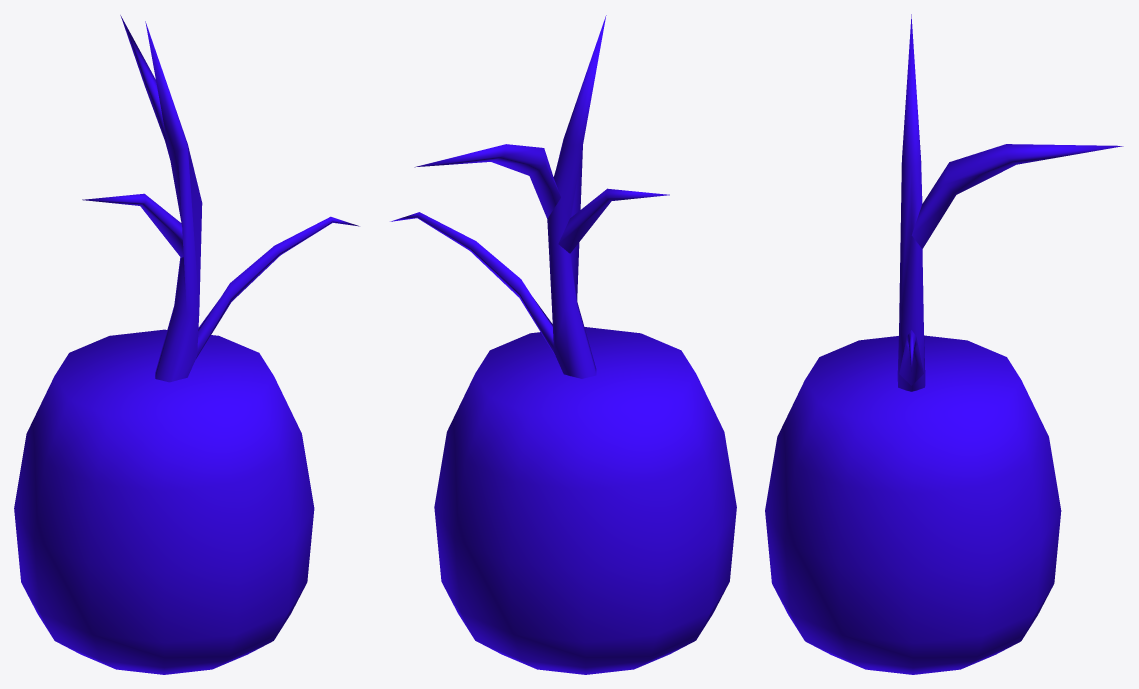
File: office_pack_plant_A_smallPot_1_meshCollider.fbx
3 renders of one model, left to right at view 1: azimuth 30°, elevation 25°; view 2: azimuth 150°, elevation 25°; view 3: azimuth 270°, elevation 25°, orthographic. The views are drawn at different scales.
Parts seen in each view (by area): view 1: office_pack_plant_A_smallPot_1_meshCollider; view 2: office_pack_plant_A_smallPot_1_meshCollider; view 3: office_pack_plant_A_smallPot_1_meshCollider.
Part boxes in pixels (x1,y1,x2,y2): office_pack_plant_A_smallPot_1_meshCollider: (14,15,359,674); office_pack_plant_A_smallPot_1_meshCollider: (390,15,736,674); office_pack_plant_A_smallPot_1_meshCollider: (765,14,1123,674).
Size of the model in its own units: 32.52 by 59.07 by 31.53.
